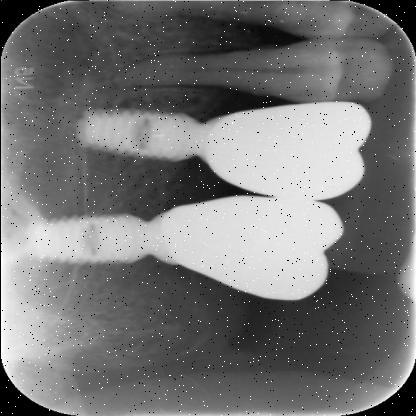Bicon: (14, 204, 164, 268), (69, 104, 198, 166)
